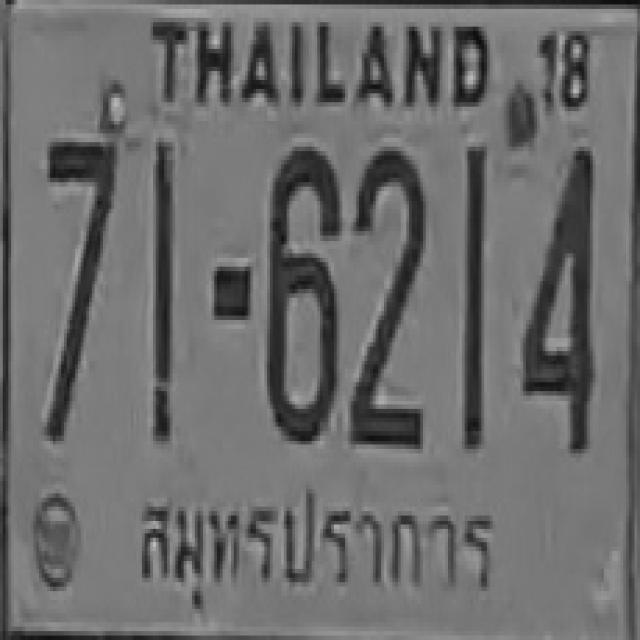1: (462, 144, 487, 446), (152, 138, 174, 440)
2: (348, 144, 426, 446)
4: (520, 145, 596, 451)
6: (266, 144, 341, 442)
7: (44, 138, 117, 440), (46, 138, 115, 378)
SamutPrakan: (129, 470, 503, 616)
